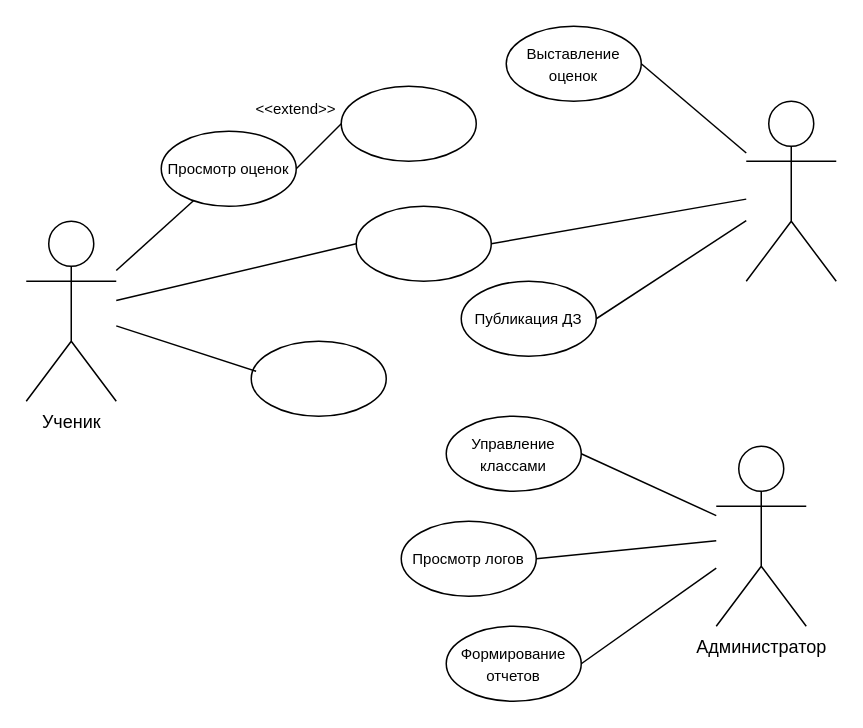
Some shapes in this 863 by 728 pixel diagram are drawn without their labels. The centre of each missing label's shape, as x and y in pixels:
"Отправить сообщение учителю" belongs at [408,123].
"Просмотр ДЗ" belongs at [318,378].
"Просмотр расписания" belongs at [423,243].
"Учитель" belongs at [790,190].
